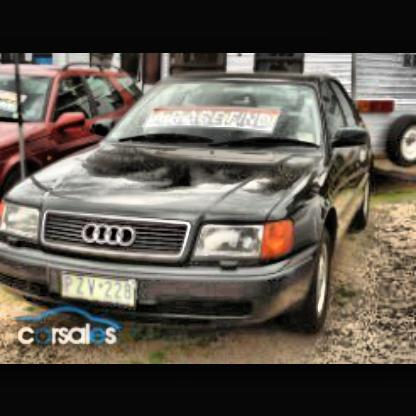Audi 100 Wagon 1994: (3, 75, 376, 340)
